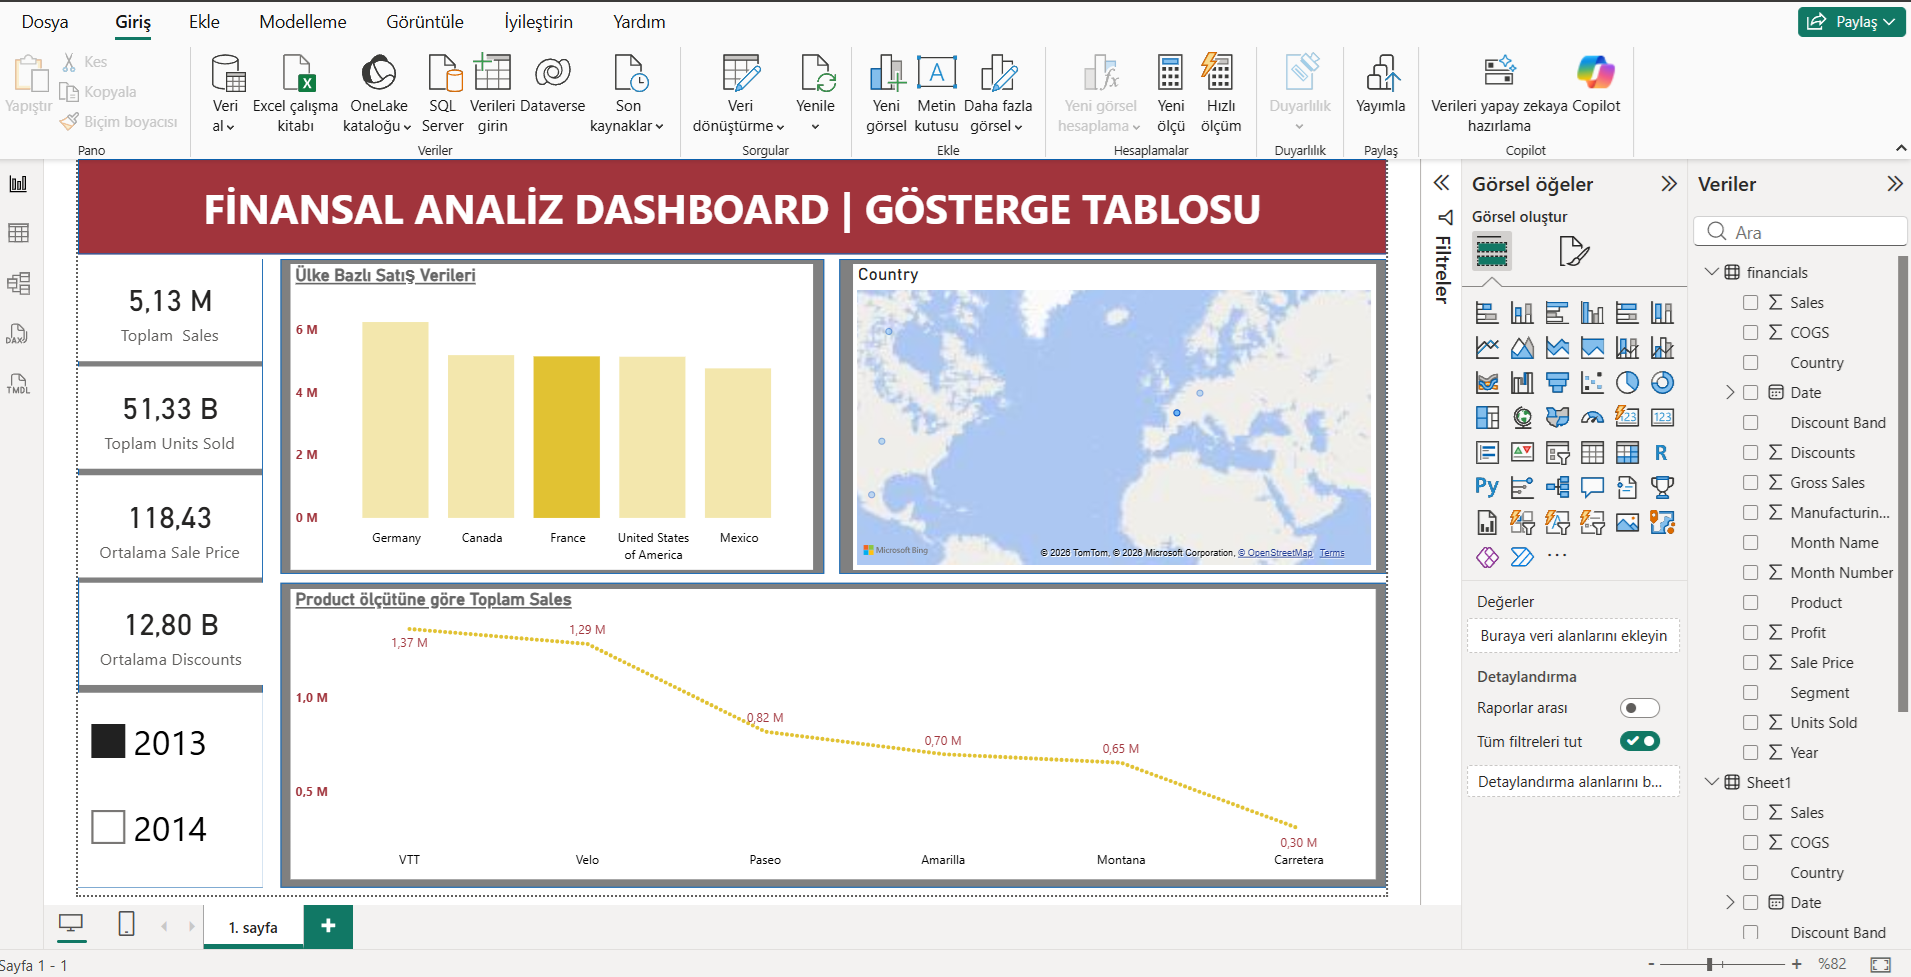

The page's visual inventory and layout, read from the dashboard file:
{"tool":"powerbi","page":{"name":"1. sayfa","canvas":[1280,720],"ordinal":0},"visuals":[{"type":"shape","box":[0,0,1280.3,93.3],"z":0},{"type":"shape","box":[0,97.8,181,615.1],"z":1000},{"type":"shape","box":[198.1,97.8,531.9,308.2],"z":2000},{"type":"shape","box":[744.7,97.8,535.6,308.2],"z":3000},{"type":"shape","box":[198.1,414.5,1082.2,298.4],"z":4000},{"type":"map","fields":{"Category":["financials.Country"]},"box":[758.2,102.7,511.1,299.6],"z":5000},{"type":"card","fields":{"Values":["Sum(financials. Sales)"]},"box":[0,97.8,180,100],"z":6000},{"type":"card","fields":{"Values":["Sum(financials.Units Sold)"]},"box":[0,203,179.8,100.3],"z":7000},{"type":"card","fields":{"Values":["Avg(financials.Sale Price)"]},"box":[0,309.4,179.8,100.3],"z":8000},{"type":"card","fields":{"Values":["Avg(financials.Discounts)"]},"box":[1.2,414.5,179.8,100.3],"z":9000},{"type":"columnChart","title":"Ülke Bazlı Satış Verileri","fields":{"Category":["financials.Country"],"Y":["Sum(financials. Sales)"]},"box":[207.9,102.7,511.1,299.6],"z":10000},{"type":"lineChart","fields":{"Category":["financials.Product"],"Y":["Sum(financials. Sales)"]},"box":[207.9,420.7,1061.4,283.7],"z":11000},{"type":"slicer","fields":{"Values":["financials.Date.Varyasyon.Tarih Hiyerarşisi.Yıl"]},"box":[0,522.1,181,190.8],"z":12000}]}

Visuals, with their boxes on the page's 1280x720 design canvas (x1, y1, x2, y2). These are canvas units, not pixel positions in the 1911x977 screenshot, which may show the page scaled, cropped or inside an application window:
shape: <box>0,0,1280,93</box>
shape: <box>0,98,181,713</box>
shape: <box>198,98,730,406</box>
shape: <box>745,98,1280,406</box>
shape: <box>198,414,1280,713</box>
map - financials.Country: <box>758,103,1269,402</box>
card - Sum(financials. Sales): <box>0,98,180,198</box>
card - Sum(financials.Units Sold): <box>0,203,180,303</box>
card - Avg(financials.Sale Price): <box>0,309,180,410</box>
card - Avg(financials.Discounts): <box>1,414,181,515</box>
"Ülke Bazlı Satış Verileri" columnChart: <box>208,103,719,402</box>
lineChart - financials.Product x Sum(financials. Sales): <box>208,421,1269,704</box>
slicer - financials.Date.Varyasyon.Tarih Hiyerarşisi.Yıl: <box>0,522,181,713</box>
